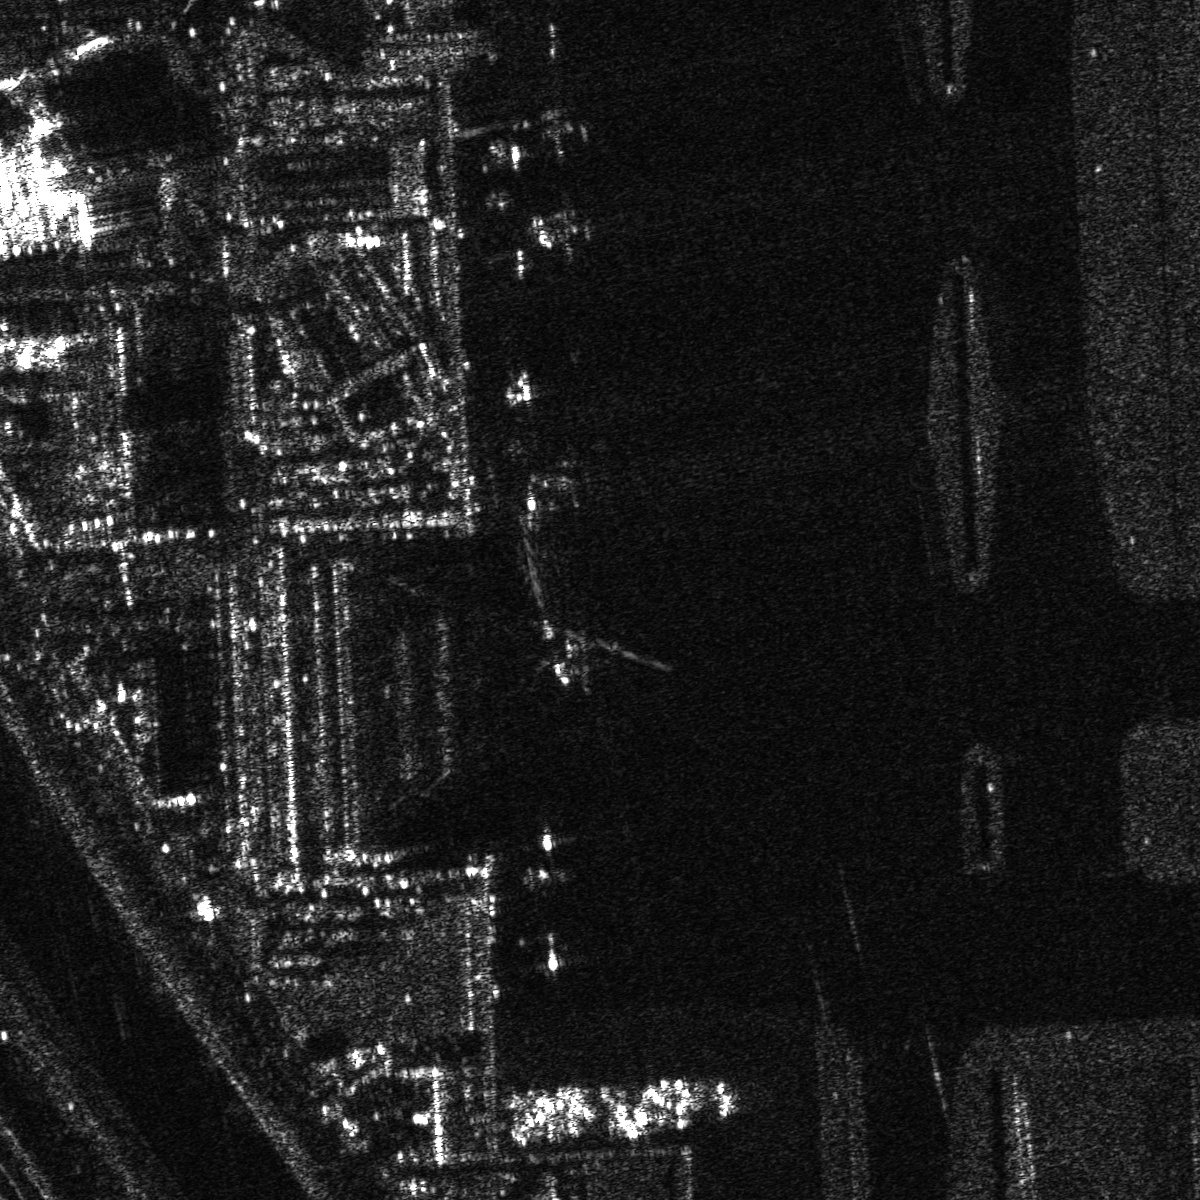A220: (546, 621, 641, 695), (521, 201, 605, 265), (526, 95, 600, 164), (524, 446, 598, 513)
